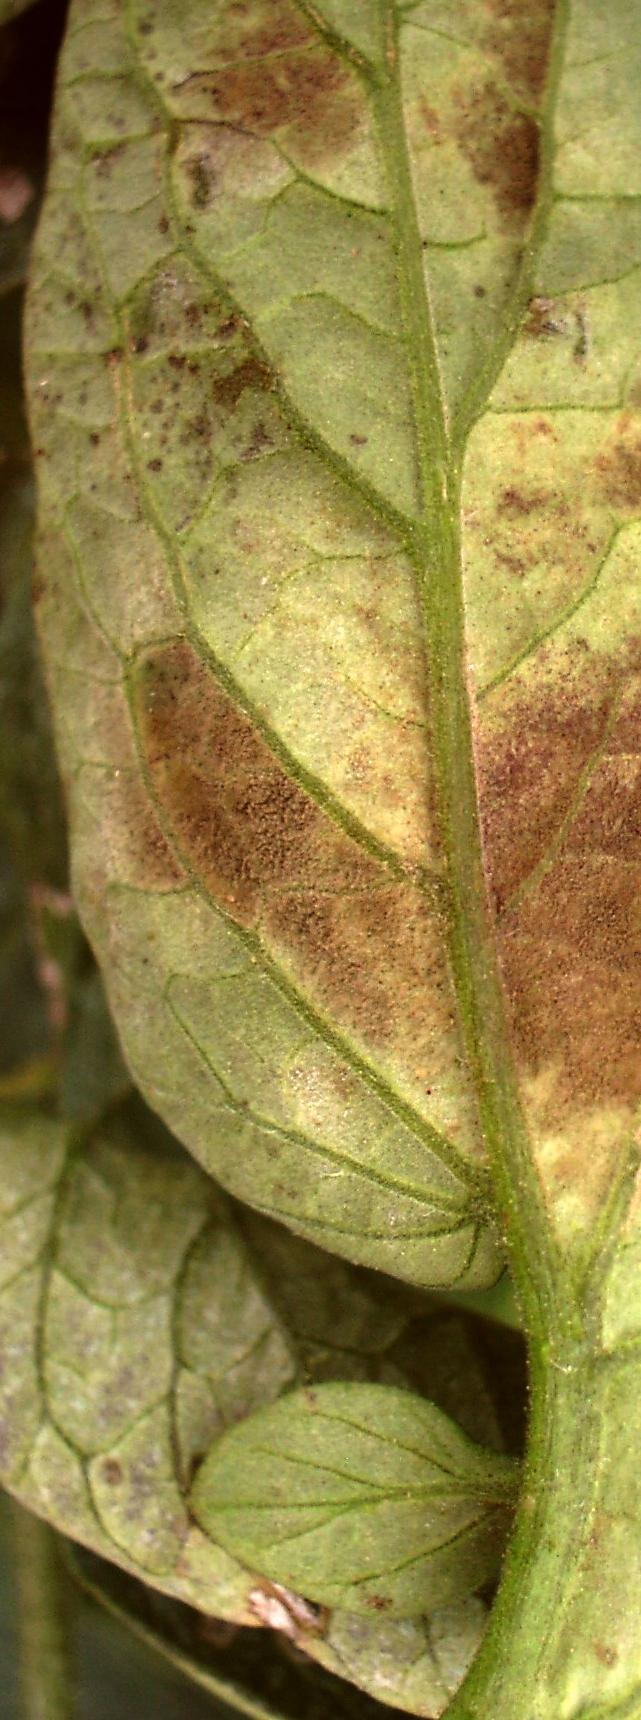Tomato mold leaf: (0, 0, 641, 1681), (0, 1011, 434, 1684)
